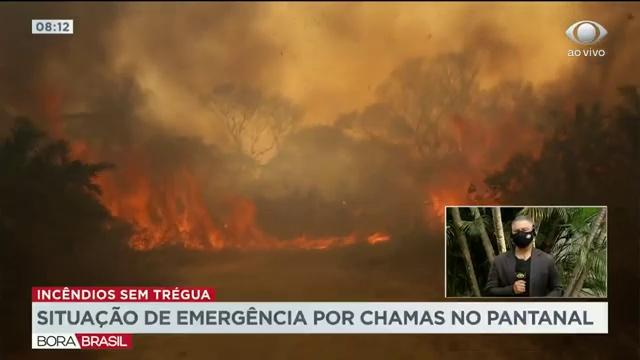fire: (122, 176, 205, 242)
smoke: (171, 11, 249, 81)
